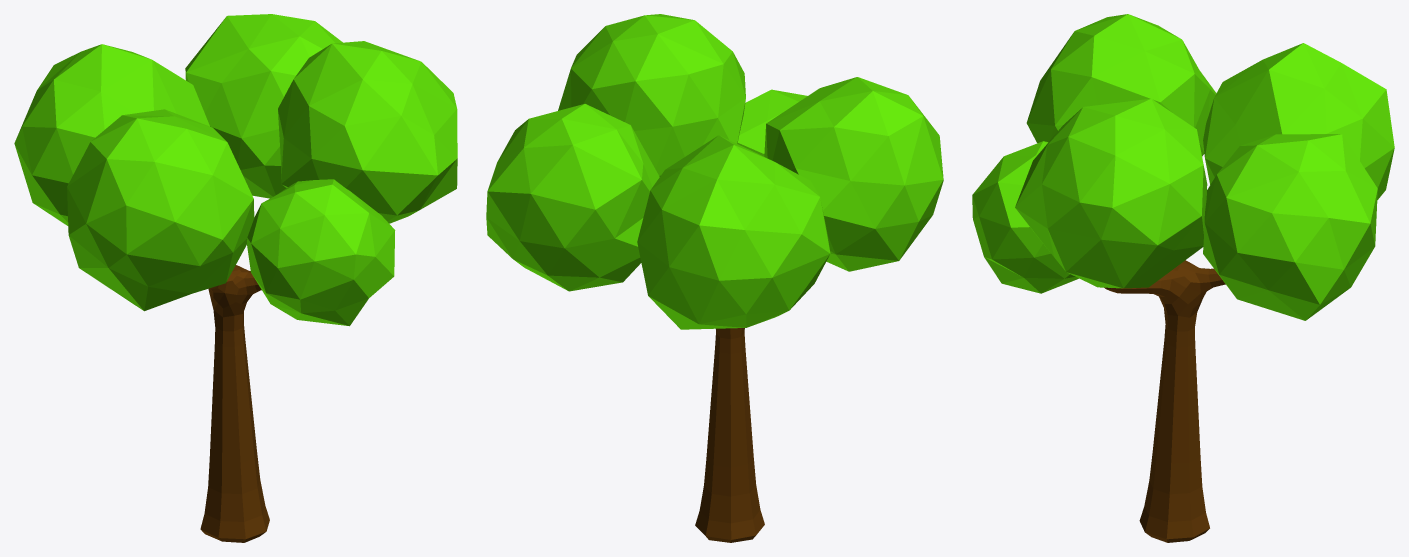
Rendered from Tree03_3.fbx.
3 renders of one model, left to right at view 1: azimuth 30°, elevation 25°; view 2: azimuth 150°, elevation 25°; view 3: azimuth 270°, elevation 25°, orthographic.
Visible parts, largest first — view 1: t3leaf, t3root; view 2: t3leaf, t3root; view 3: t3leaf, t3root.
Boxes of the visible parts, <box> form: t3leaf: <box>14,14,457,326</box>; t3root: <box>200,265,269,542</box>; t3leaf: <box>486,14,943,329</box>; t3root: <box>695,328,764,542</box>; t3leaf: <box>972,14,1394,320</box>; t3root: <box>1104,260,1225,542</box>.
Size of the model in its own units: 645 by 796 by 641.
